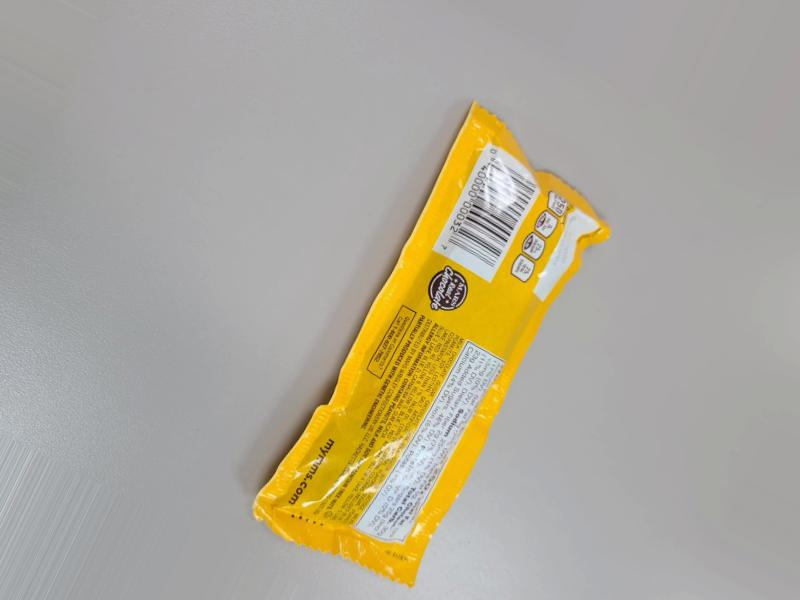m&m: (274, 179, 651, 593)
